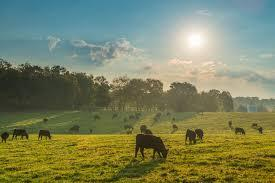cow: (134, 134, 170, 159), (12, 129, 30, 139), (186, 130, 197, 145), (37, 130, 53, 139), (196, 127, 205, 139), (67, 125, 80, 132), (234, 127, 246, 134), (2, 132, 10, 142), (140, 124, 148, 134), (124, 124, 135, 130), (257, 126, 265, 134), (171, 123, 180, 129), (252, 122, 259, 127)
